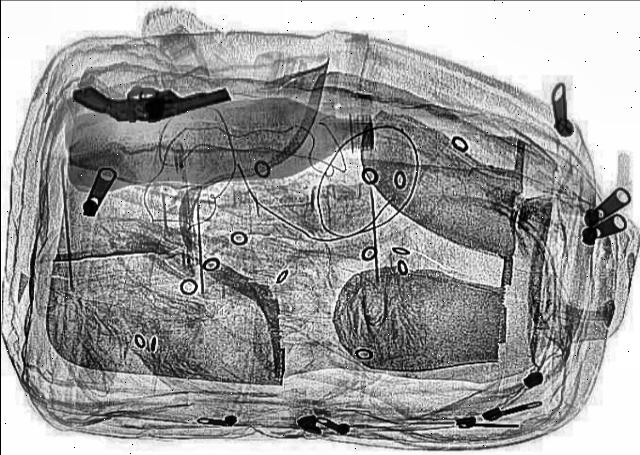Gun: (62, 66, 230, 136)
